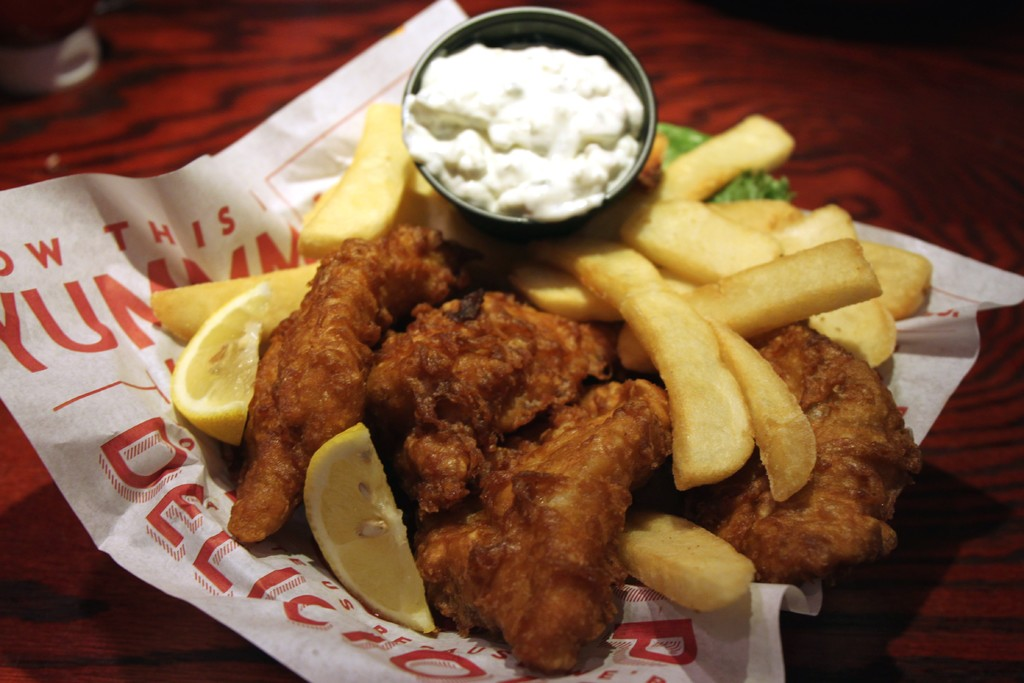French fries: (151, 103, 931, 501)
